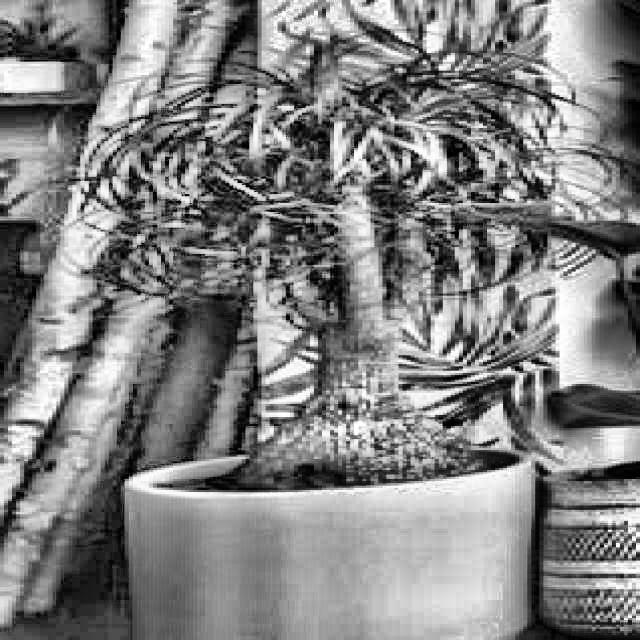plants: (61, 35, 574, 616)
